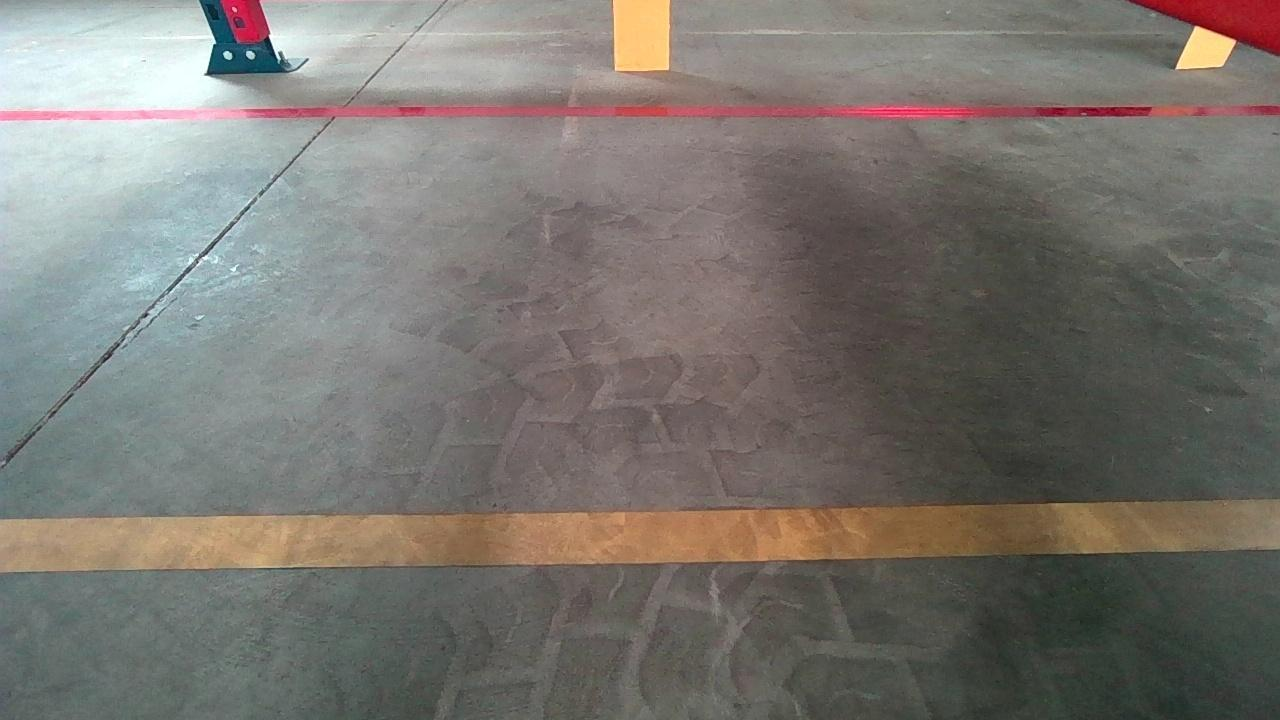orange_strip: (614, 0, 670, 70), (1175, 22, 1240, 69)
red_line: (0, 103, 1280, 124)
yellow_line: (3, 498, 1271, 574)
